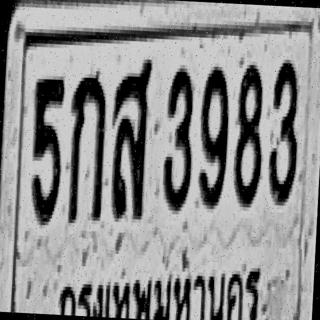A01: (65, 70, 108, 224)
A40: (108, 55, 153, 220)
N03: (161, 65, 197, 212), (267, 58, 301, 204)
N05: (28, 75, 66, 226)
N08: (232, 61, 266, 208)
N09: (195, 62, 231, 210)
